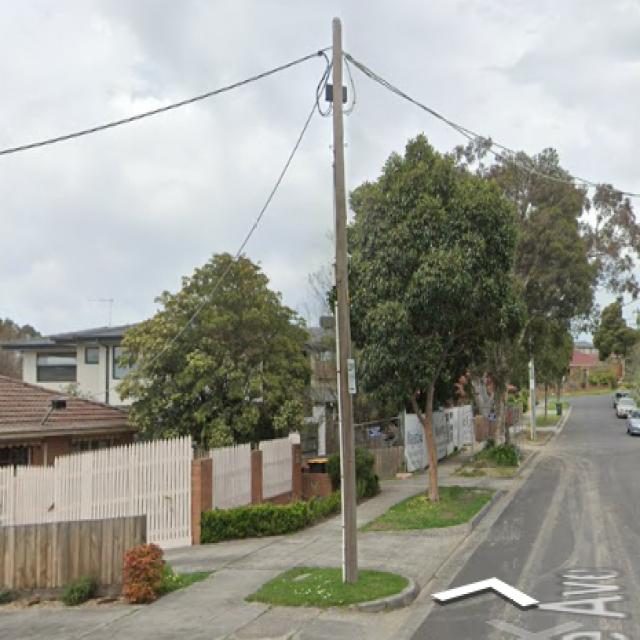timber-pole: (332, 17, 360, 585)
